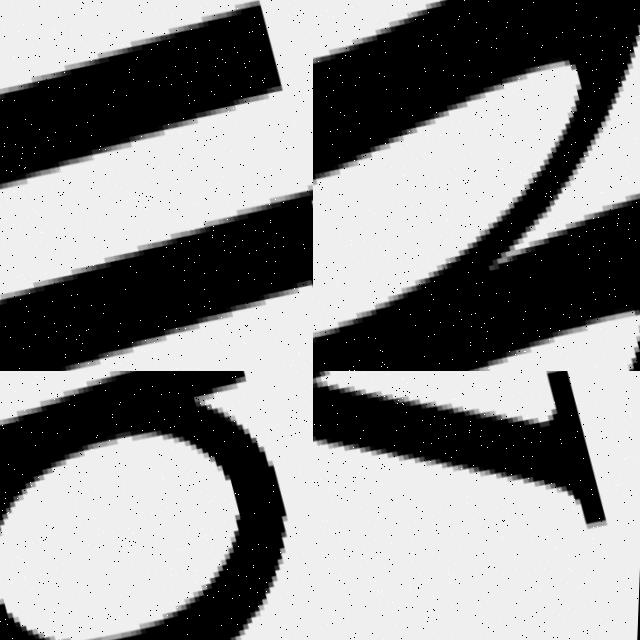G: (0, 371, 313, 640)
N: (313, 0, 640, 371)
U: (0, 0, 313, 371)
Y: (313, 371, 637, 640)
